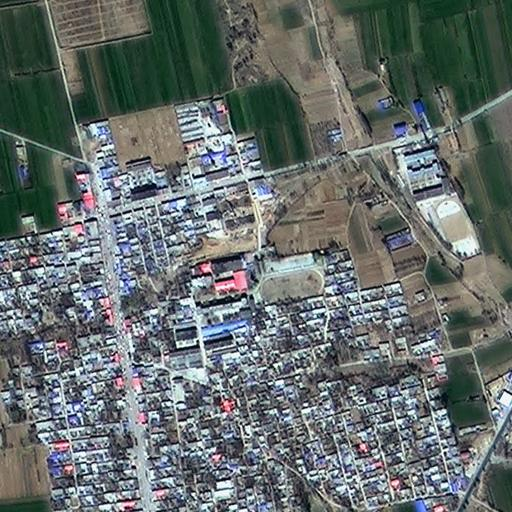school: (389, 140, 483, 263), (191, 250, 323, 309)
